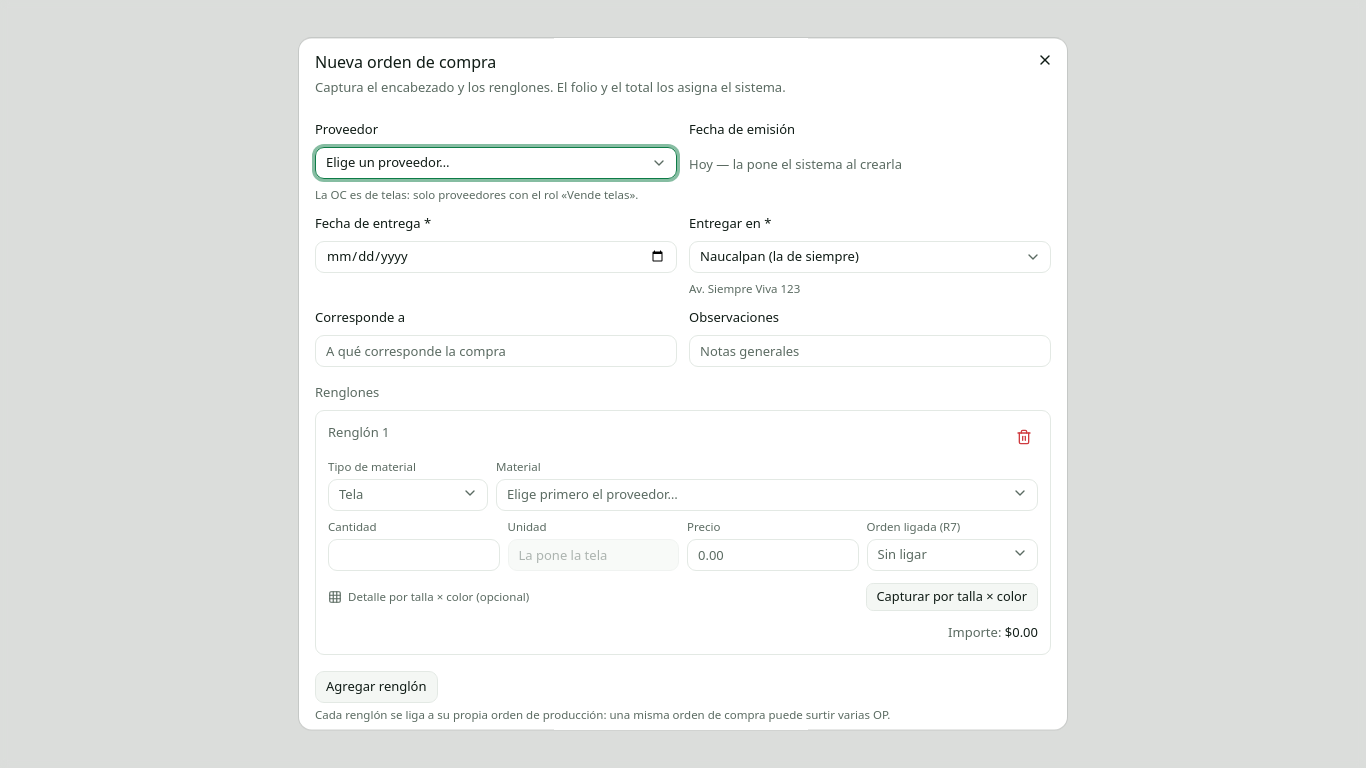
Scenario: DialogoEditarOc · proveedor acotado por los renglones › al cambiar el renglón a avío, cambia a proveedores de avíos
Step 1. Select "Avío" in the dropdown named "Tipo de material del renglón 1" → (408, 495), box [328,479,488,511]
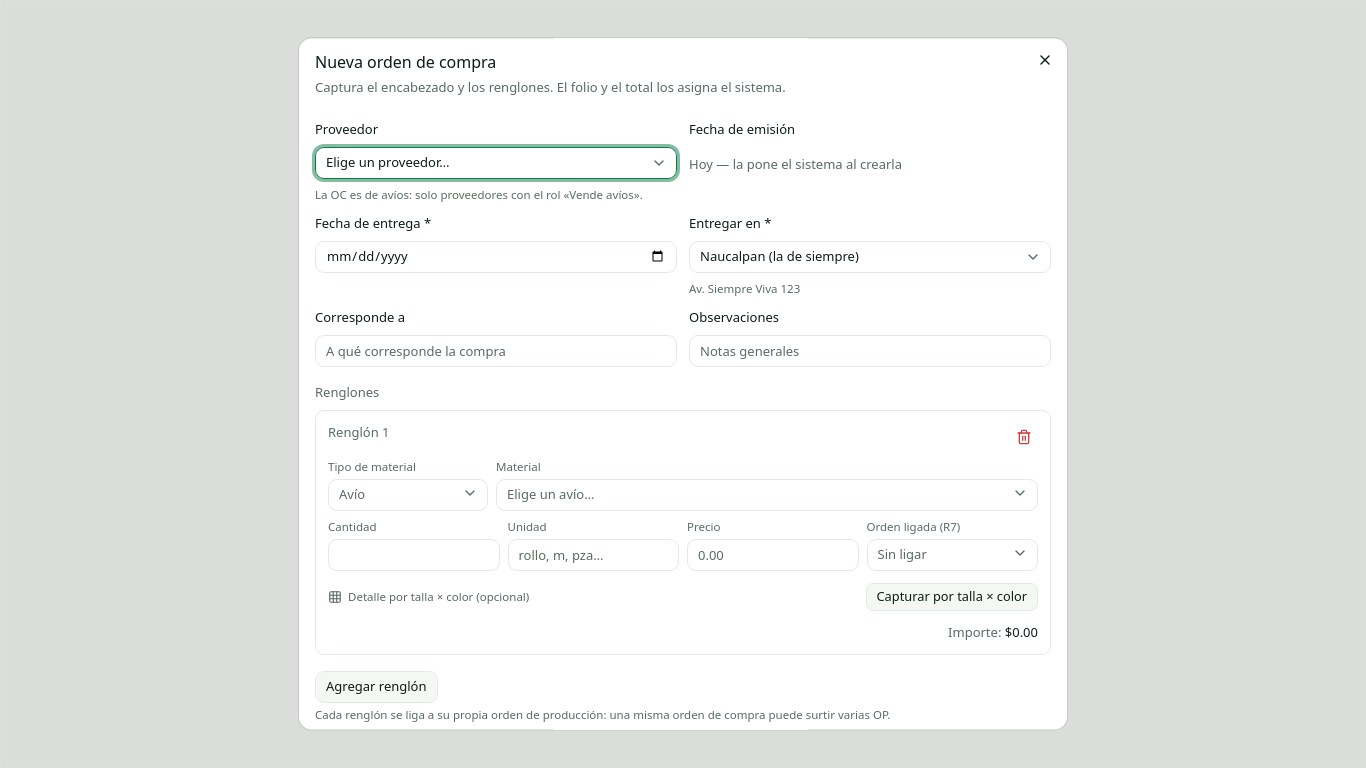
Now the text with test id "oc-proveedor-ayuda" shows "«Vende avíos»", box [315,187,643,202]
